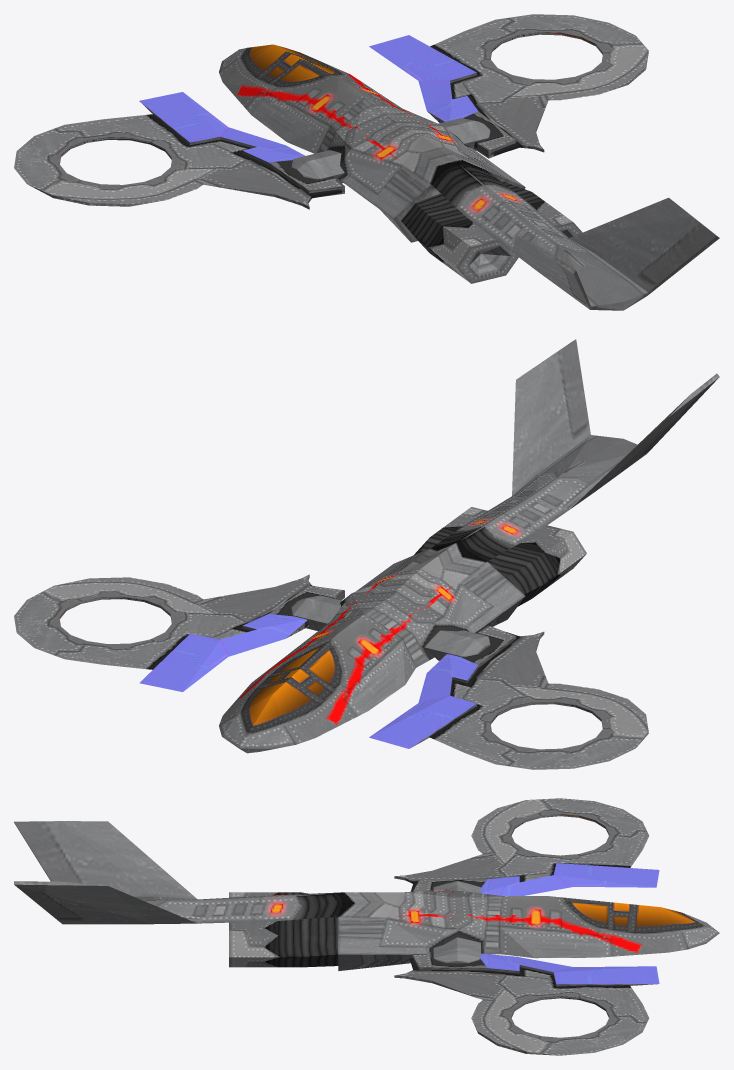
The model's file is AircraftModel.obj.
3 renders of one model, top to bottom at view 1: azimuth 30°, elevation 25°; view 2: azimuth 150°, elevation 25°; view 3: azimuth 270°, elevation 25°, orthographic. The views are drawn at different scales.
Visible parts, largest first — view 1: MergedCraft_Air-Craft.002; view 2: MergedCraft_Air-Craft.002; view 3: MergedCraft_Air-Craft.002.
Part boxes in pixels (box(x1,y1,x2,y2)): MergedCraft_Air-Craft.002: box(14, 14, 719, 310); MergedCraft_Air-Craft.002: box(14, 339, 719, 769); MergedCraft_Air-Craft.002: box(14, 798, 719, 1055).
Size of the model in its own units: 6.69 by 1.2 by 7.75.
